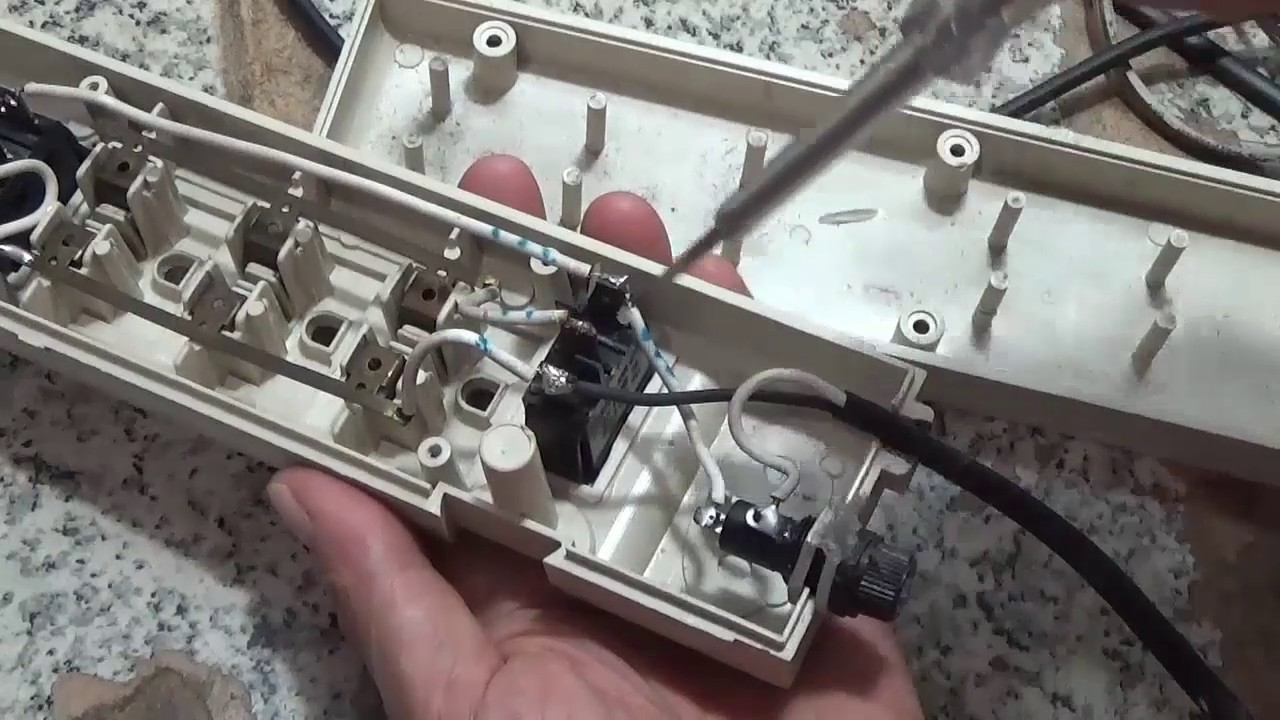Three_eye_plug: (1, 14, 945, 689)
